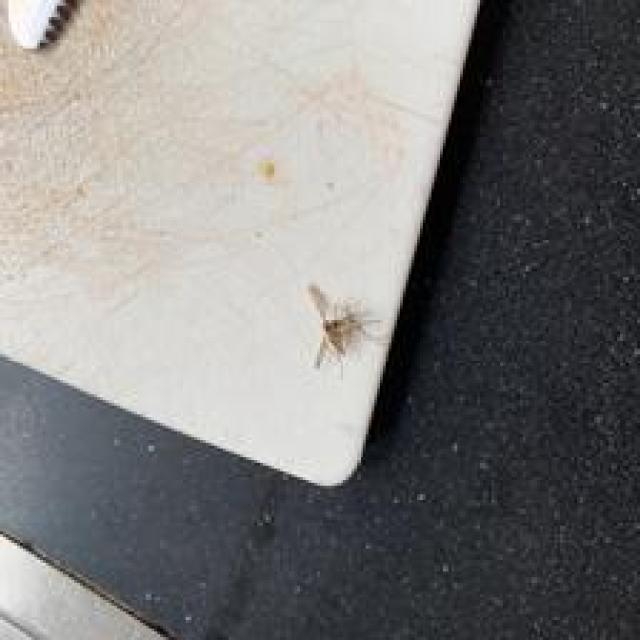Culex: (304, 283, 382, 374)
